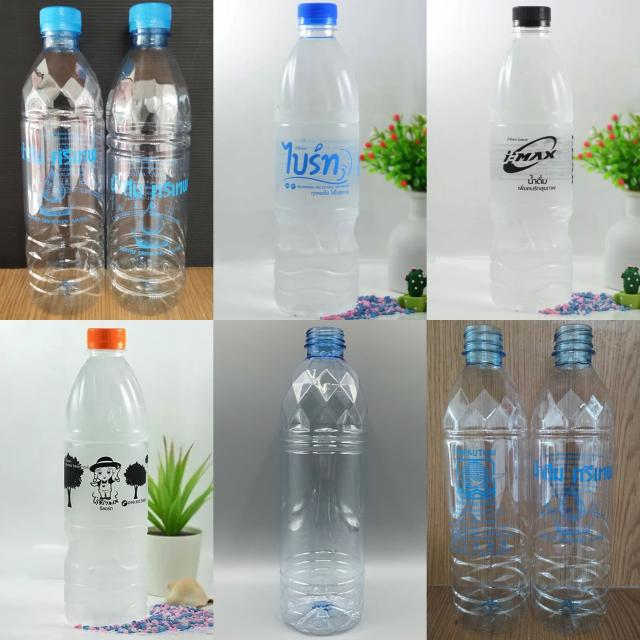plastik: (442, 324, 530, 633), (280, 327, 368, 634), (274, 3, 359, 318), (106, 3, 191, 315), (531, 324, 615, 634), (489, 6, 574, 311), (21, 6, 105, 314), (64, 328, 148, 625)
